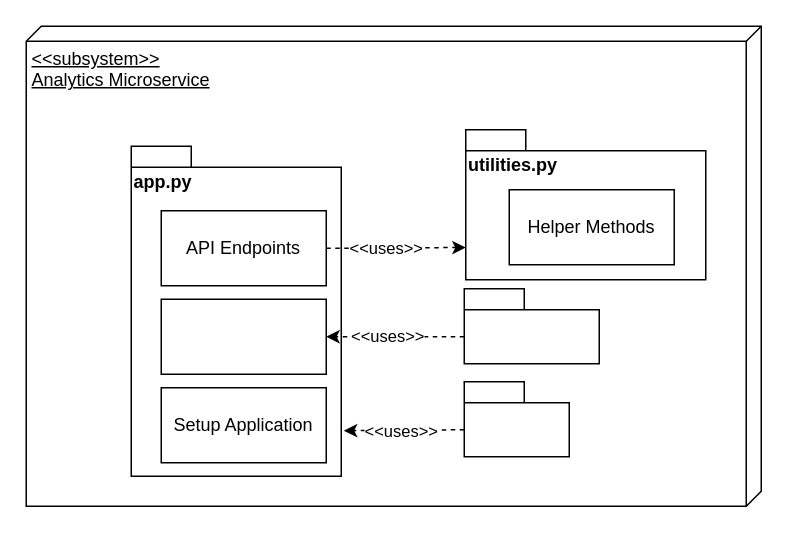
Image size: 788x533. Some labels were removed from this diagram. Here are the shapes that lost their labels. From the top down, the box of each, then its label:
(160, 298, 326, 374): Define Database
(463, 287, 599, 364): db_setup.py
(463, 380, 569, 457): dockerfile
